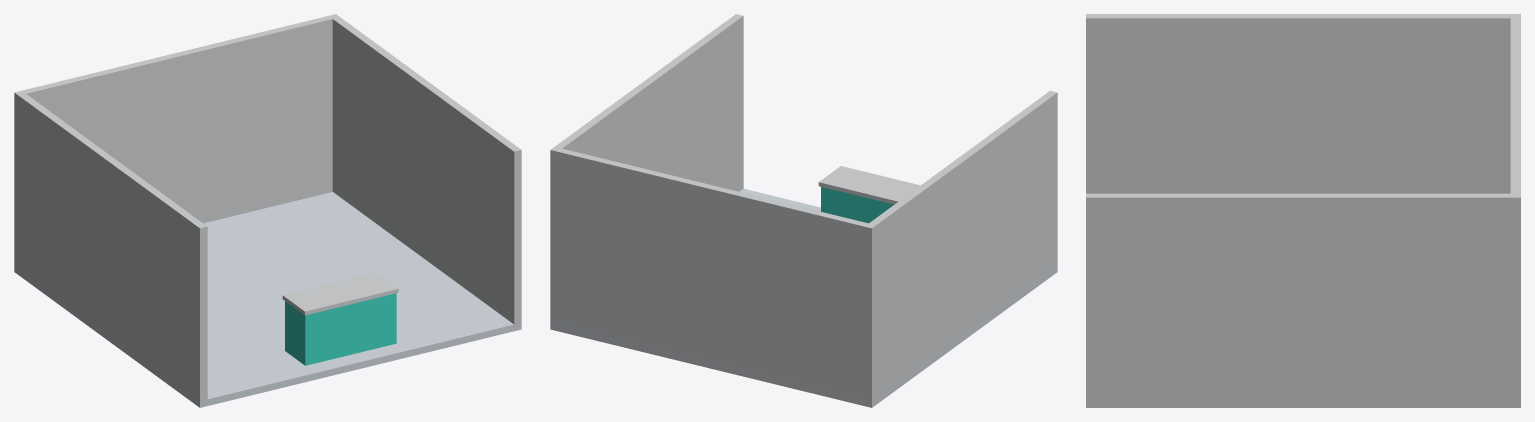
3 views of the same model, side by side, from view 1: azimuth 30°, elevation 25°; view 2: azimuth 150°, elevation 25°; view 3: azimuth 270°, elevation 25° (orthographic). The views are drawn at different scales.
Parts seen in each view (by area): view 1: Exhibition Booth Concept; view 2: Exhibition Booth Concept; view 3: Exhibition Booth Concept.
Boxes of the visible parts, <box> form: Exhibition Booth Concept: <box>14,14,521,407</box>; Exhibition Booth Concept: <box>550,14,1057,407</box>; Exhibition Booth Concept: <box>1086,14,1520,407</box>.
Size of the model in its own units: 6 by 3.2 by 6.
